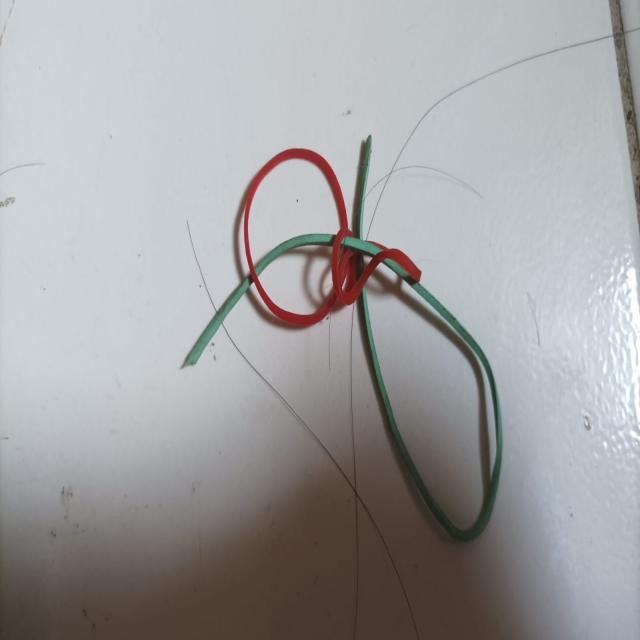Organik: (162, 113, 536, 571)
